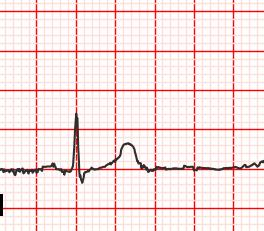LVH: (100, 140, 154, 174)
